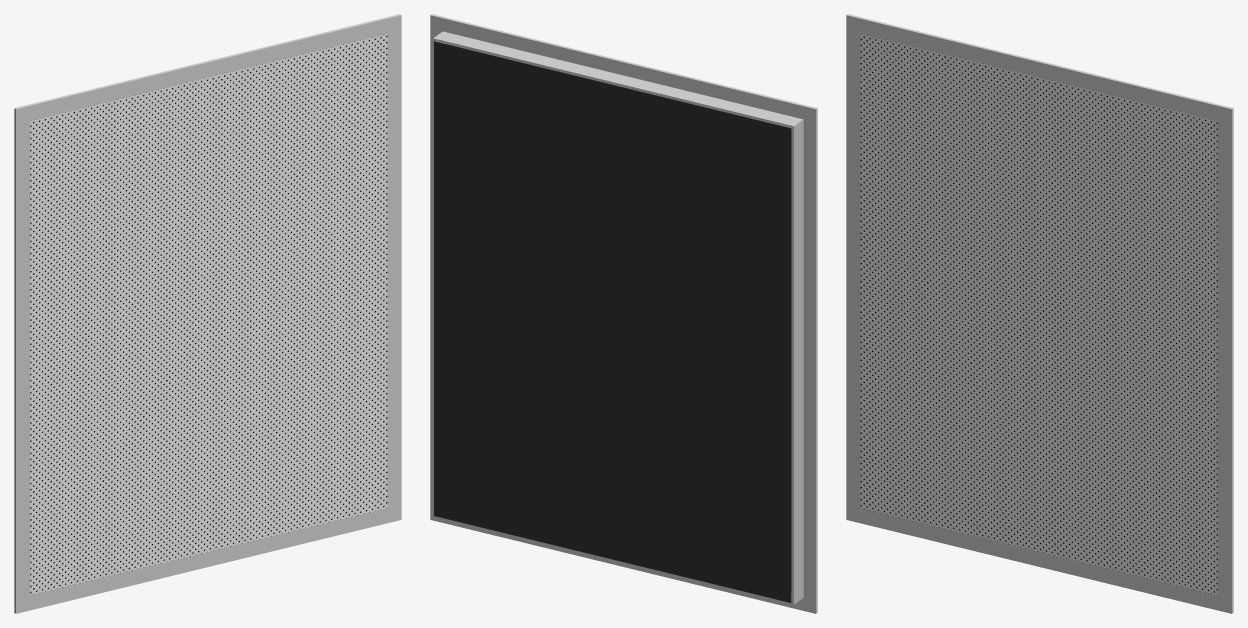
Rendered from ecoclima-egfr-400x500.glb.
The picture shows the model from 3 angles, left to right: view 1: azimuth 30°, elevation 25°; view 2: azimuth 150°, elevation 25°; view 3: azimuth 330°, elevation 25°; orthographic projection.
Parts seen in each view (by area): view 1: Profile_lamiera_forata.001, Profile_cornice.115, Profile_cornice.116, Profile_cornice.113, Profile_cornice.114; view 2: Interno.032, Profile_cornice.115, Profile_cornice.113, Profile_ritorno.122, Profile_ritorno.120, Profile_cornice.114, Profile_cornice.116, Profile_lamiera_forata.001, Profile_ritorno.121; view 3: Profile_lamiera_forata.001, Profile_cornice.116, Profile_cornice.115, Profile_cornice.113, Profile_cornice.114.
Part boxes in pixels (left/top/right/bottom): Profile_lamiera_forata.001: left=30, top=34, right=387, bottom=595; Profile_cornice.115: left=14, top=121, right=30, bottom=598; Profile_cornice.116: left=387, top=30, right=401, bottom=507; Profile_cornice.113: left=14, top=14, right=401, bottom=124; Profile_cornice.114: left=14, top=505, right=401, bottom=613; Interno.032: left=434, top=41, right=791, bottom=602; Profile_cornice.115: left=803, top=121, right=817, bottom=598; Profile_cornice.113: left=430, top=14, right=817, bottom=124; Profile_ritorno.122: left=792, top=121, right=803, bottom=602; Profile_ritorno.120: left=433, top=31, right=803, bottom=128; Profile_cornice.114: left=430, top=505, right=817, bottom=613; Profile_cornice.116: left=430, top=30, right=445, bottom=505; Profile_lamiera_forata.001: left=445, top=43, right=791, bottom=591; Profile_ritorno.121: left=433, top=515, right=803, bottom=604; Profile_lamiera_forata.001: left=860, top=34, right=1217, bottom=595; Profile_cornice.116: left=1217, top=121, right=1233, bottom=598; Profile_cornice.115: left=846, top=30, right=860, bottom=507; Profile_cornice.113: left=846, top=14, right=1233, bottom=124; Profile_cornice.114: left=846, top=505, right=1233, bottom=613.
Size of the model in its own units: 0.4 by 0.5 by 0.022.
Materials: 3 (1 with a texture image).
